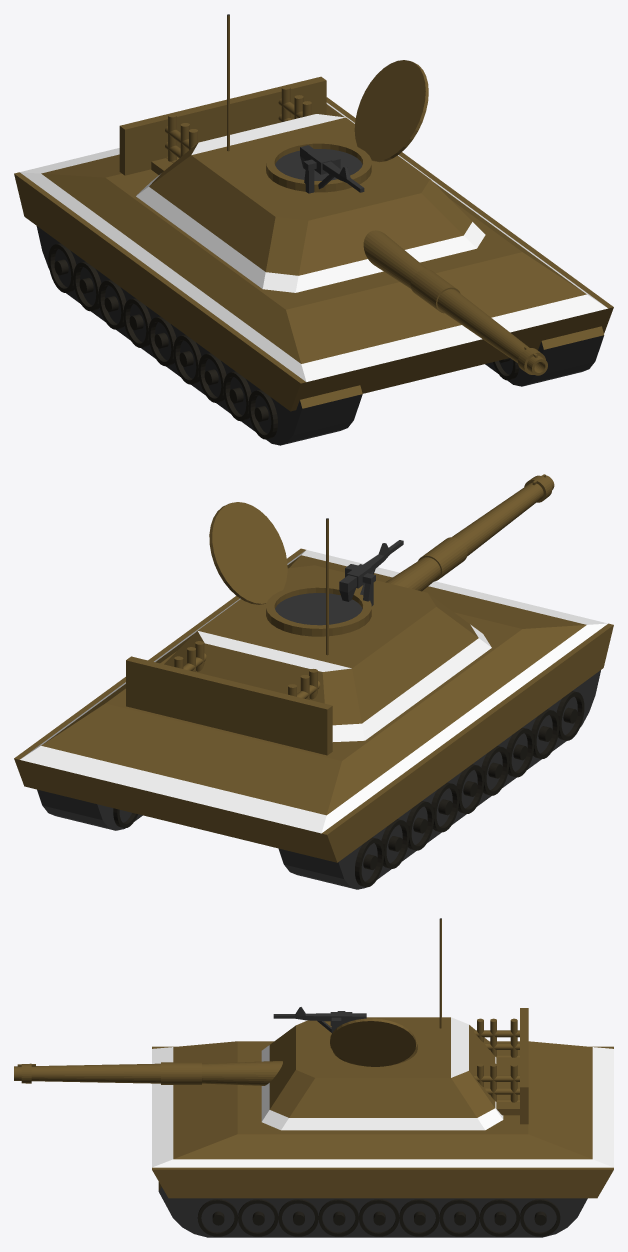
The model's file is XiNiu.fbx.
3 renders of one model, top to bottom at view 1: azimuth 30°, elevation 25°; view 2: azimuth 150°, elevation 25°; view 3: azimuth 270°, elevation 25°, orthographic. The views are drawn at different scales.
Parts seen in each view (by area): view 1: XiNiu, MainTower, PaoTa.002, PaoGuan; view 2: XiNiu, MainTower, PaoTa.002, PaoGuan; view 3: XiNiu, MainTower, PaoGuan, PaoTa.002.
Boxes of the visible parts, x1,y1,x2,y2 form: XiNiu: (14,97,613,445); MainTower: (119,14,485,292); PaoTa.002: (266,60,428,193); PaoGuan: (363,230,547,375); XiNiu: (14,548,613,889); MainTower: (126,518,491,755); PaoTa.002: (209,502,403,636); PaoGuan: (385,474,554,591); XiNiu: (152,1041,613,1237); MainTower: (261,918,528,1130); PaoGuan: (14,1061,282,1085); PaoTa.002: (273,1007,417,1066).
Bounding box in the file's own units: 210 × 189 × 427.
